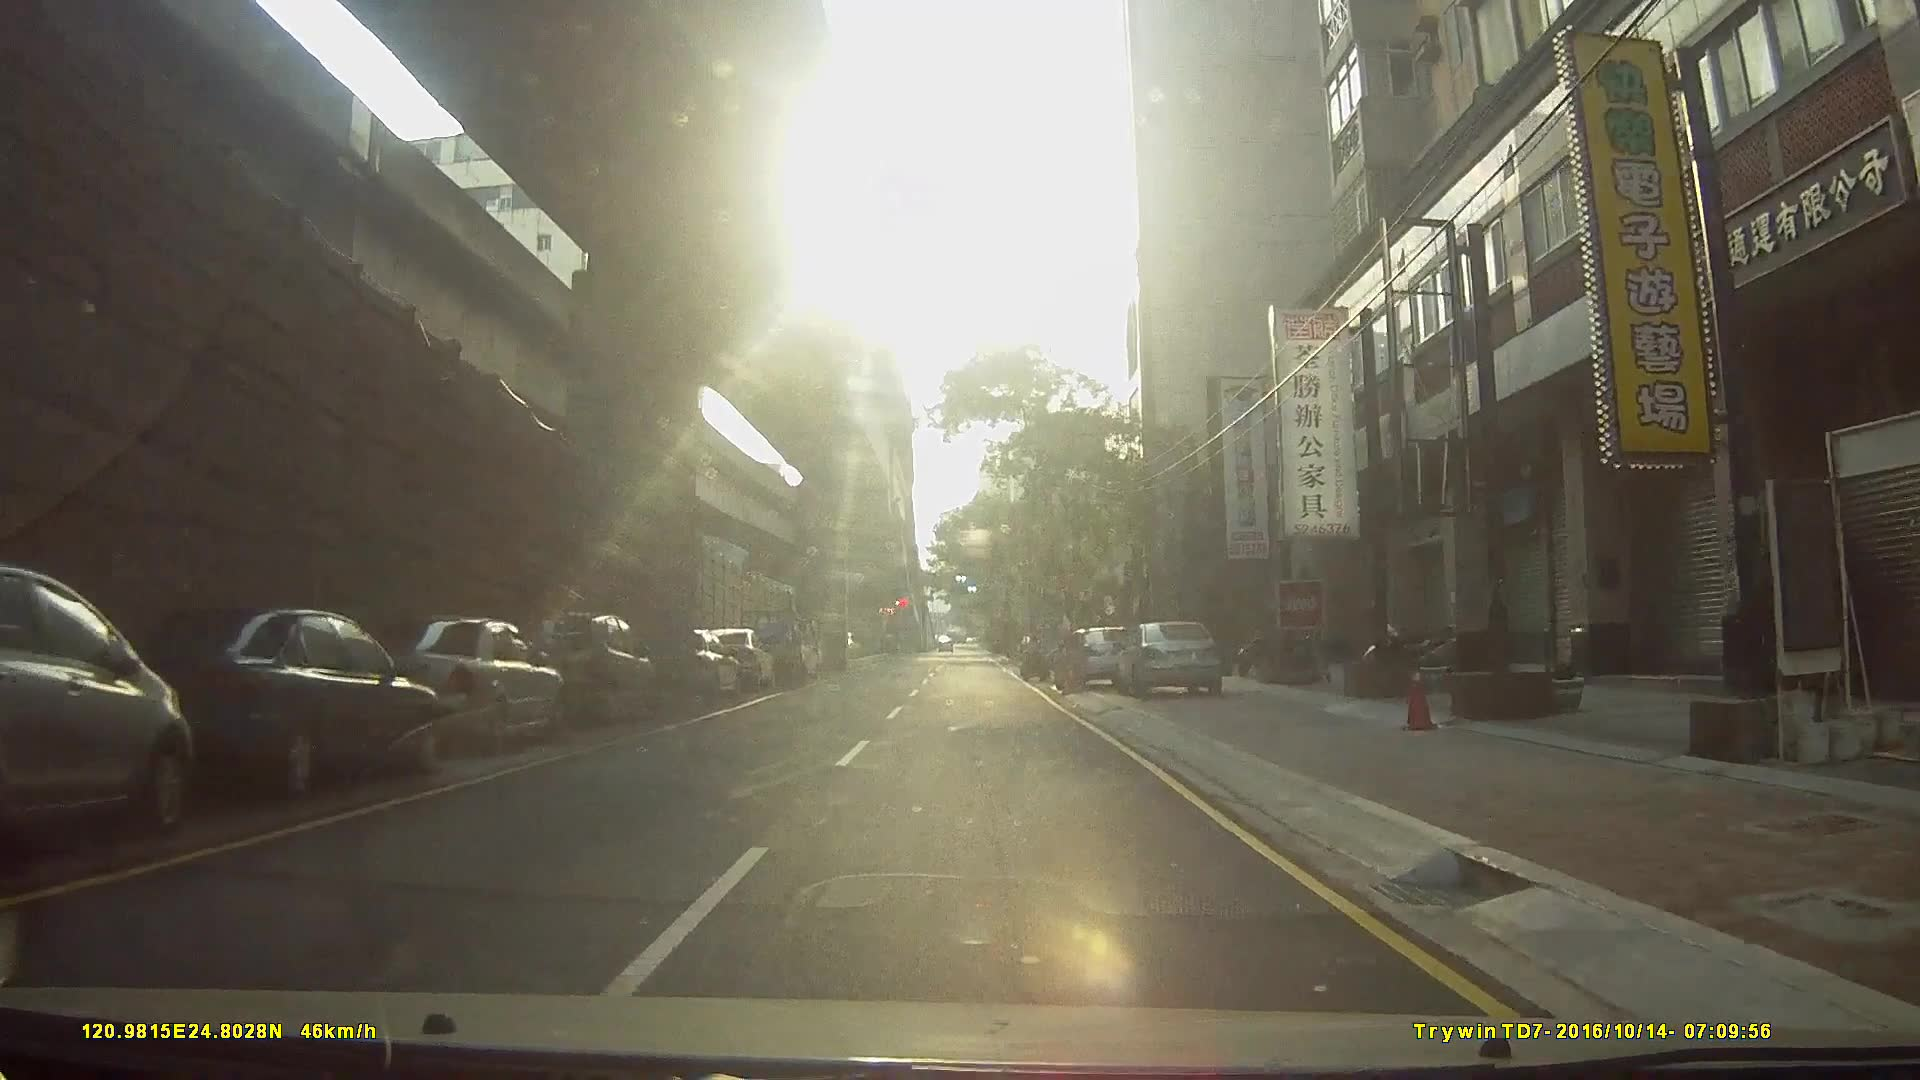rider: (1016, 623, 1049, 678)
vehicle: (93, 602, 427, 805), (1, 559, 201, 868), (355, 610, 560, 754), (501, 607, 657, 731), (1113, 618, 1224, 696), (1050, 622, 1135, 690), (693, 625, 773, 694), (734, 599, 801, 680)
